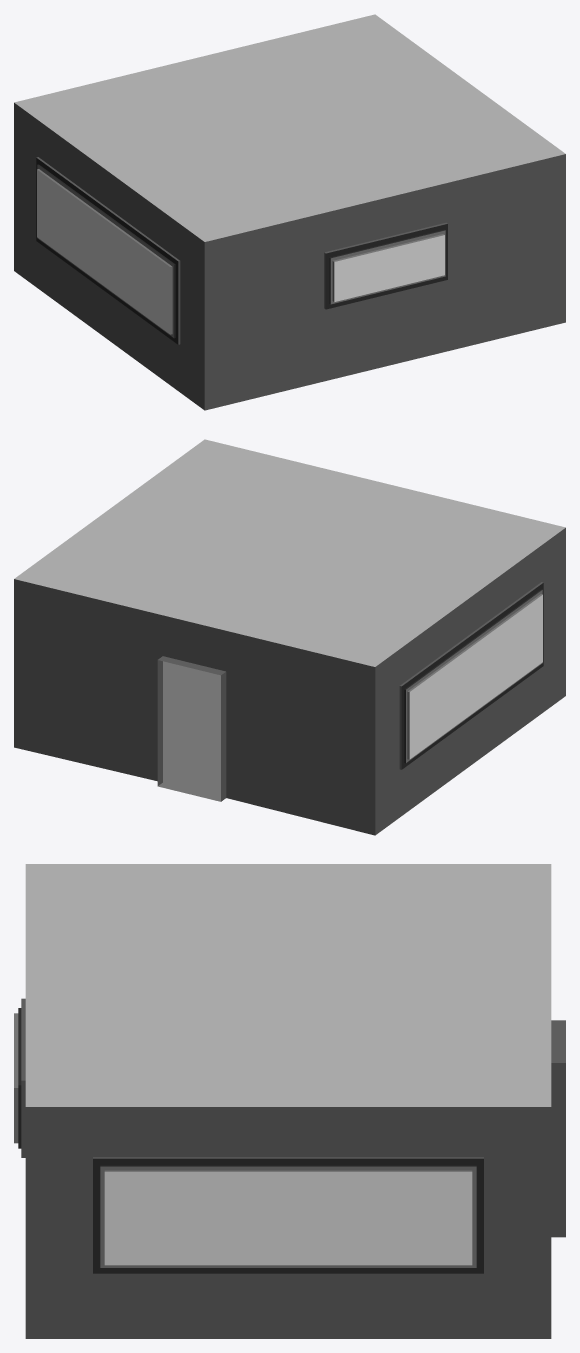
File: DiningRoomModel.fbx
The picture shows the model from 3 angles, top to bottom: view 1: azimuth 30°, elevation 25°; view 2: azimuth 150°, elevation 25°; view 3: azimuth 270°, elevation 25°; orthographic projection. The views are drawn at different scales.
Parts seen in each view (by area): view 1: DiningRoomModel; view 2: DiningRoomModel; view 3: DiningRoomModel.
Boxes of the visible parts, x1,y1,x2,y2 form: DiningRoomModel: (14, 14, 565, 410); DiningRoomModel: (14, 439, 565, 835); DiningRoomModel: (14, 864, 565, 1338).
Size of the model in its own units: 692 by 299 by 644.
